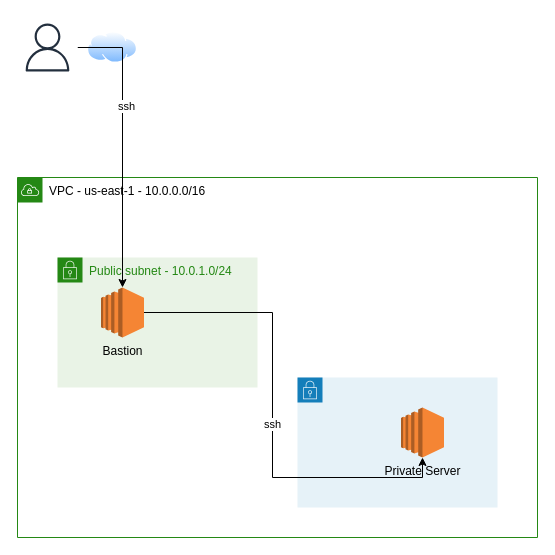
Some shapes in this 555 by 555 pixel diagram are drawn without their labels. Each missing label, with the box of its shape:
Private subnet - 10.0.2.0/24: (296, 376, 498, 508)
User: (16, 16, 78, 78)
